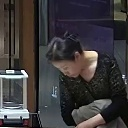head: (50, 50, 77, 77)
